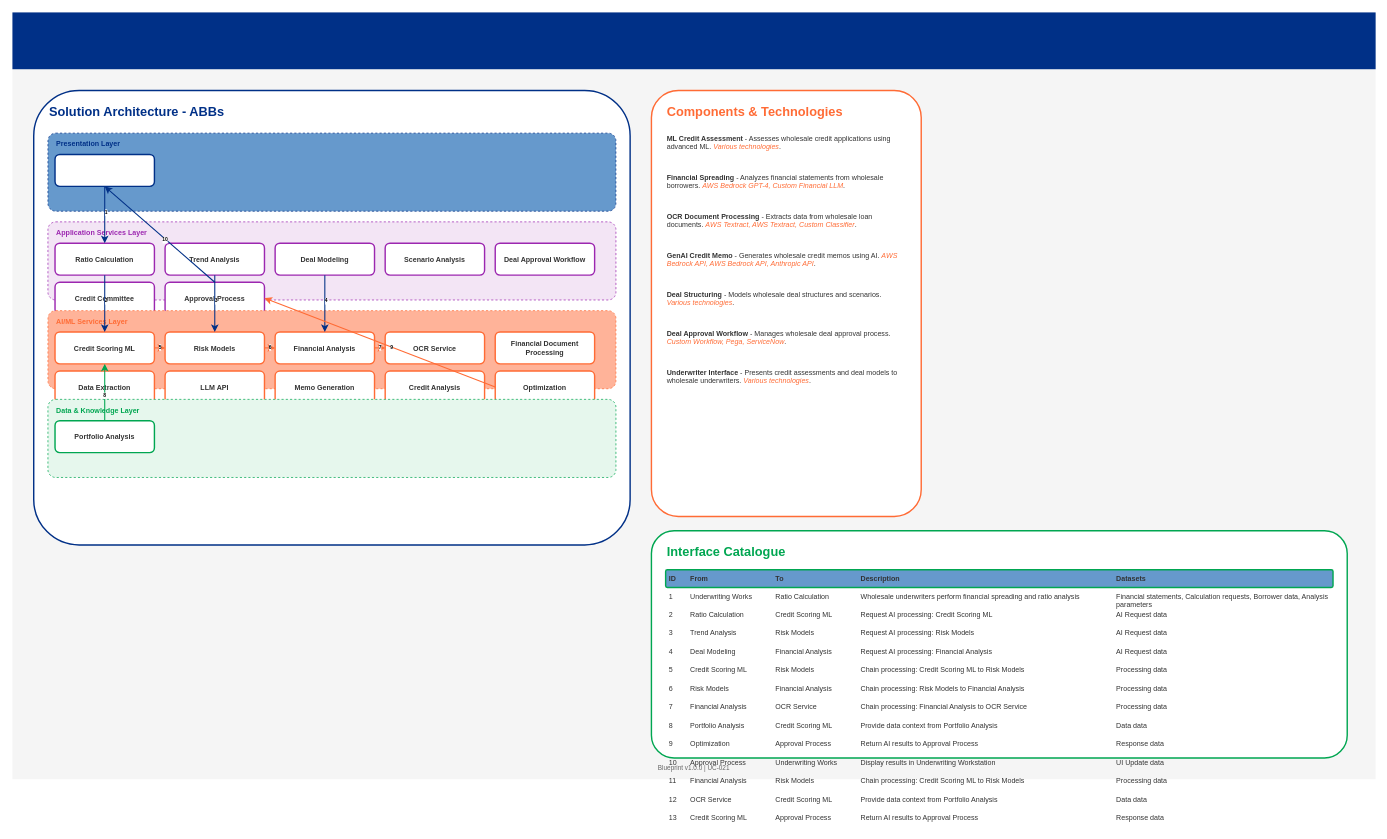
This 1387x839 diagram has some shape labels left out. Here are the shapes that lost their labels. From the top down, the box of each, then its label:
(12, 12, 1375, 69): Use Case Blueprint: UC-021 Wholesale underwriting transformation - CIB
(54, 153, 155, 187): Underwriting Workstation
